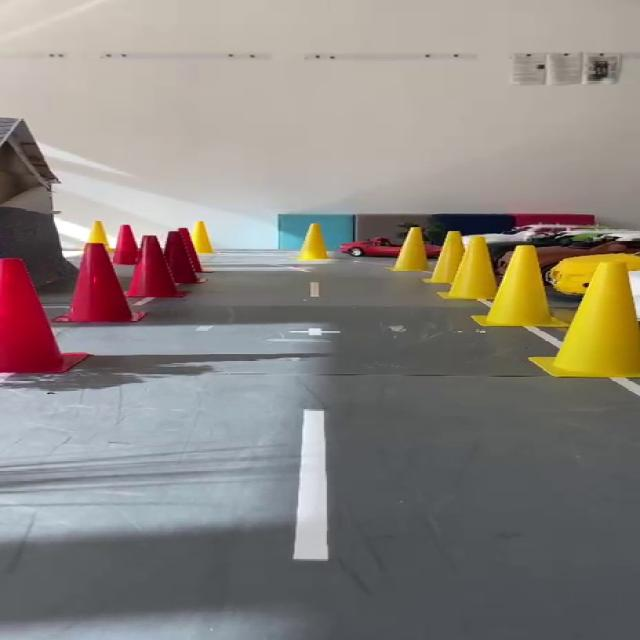Cone-red: (52, 236, 182, 323), (0, 259, 88, 373), (164, 231, 199, 284), (113, 225, 137, 265)
Cones-yellow: (472, 245, 639, 377), (441, 236, 497, 300), (425, 231, 463, 284), (179, 221, 214, 273), (390, 228, 428, 271), (295, 223, 328, 261), (86, 221, 116, 252), (112, 230, 138, 265)
